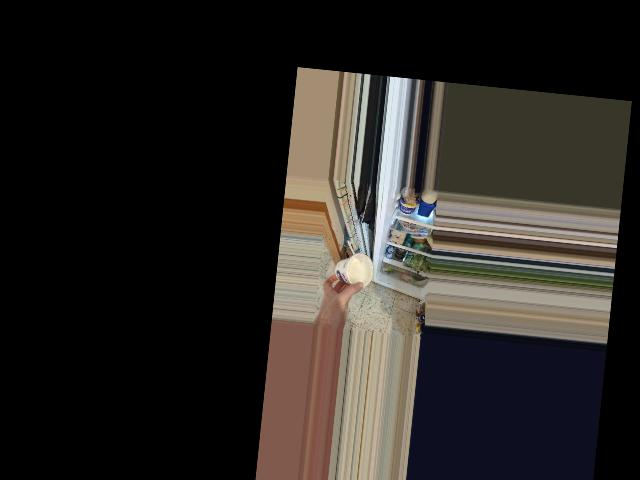cotage: (333, 251, 374, 289)
